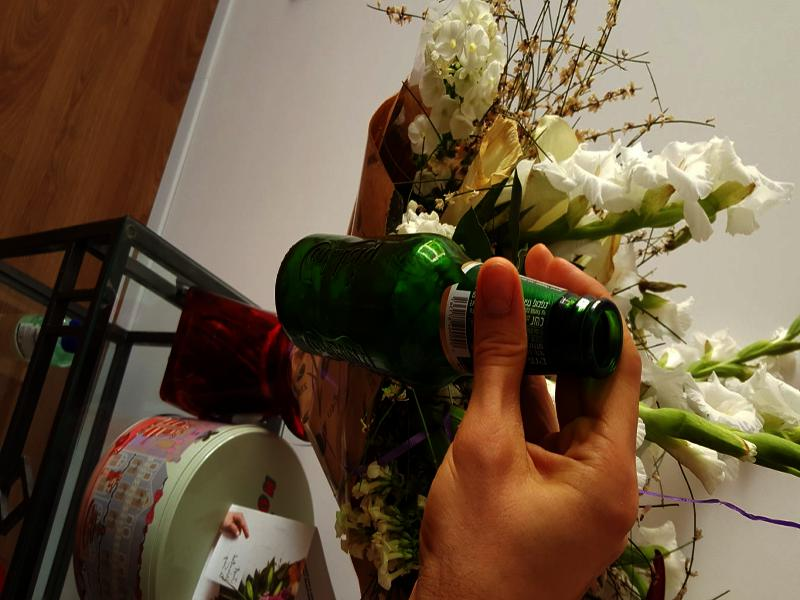Beer: (273, 231, 620, 387)
